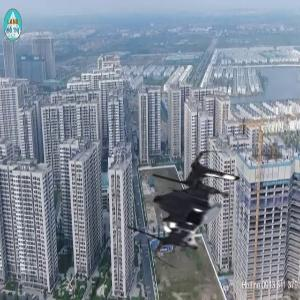drone: (123, 141, 259, 277)
